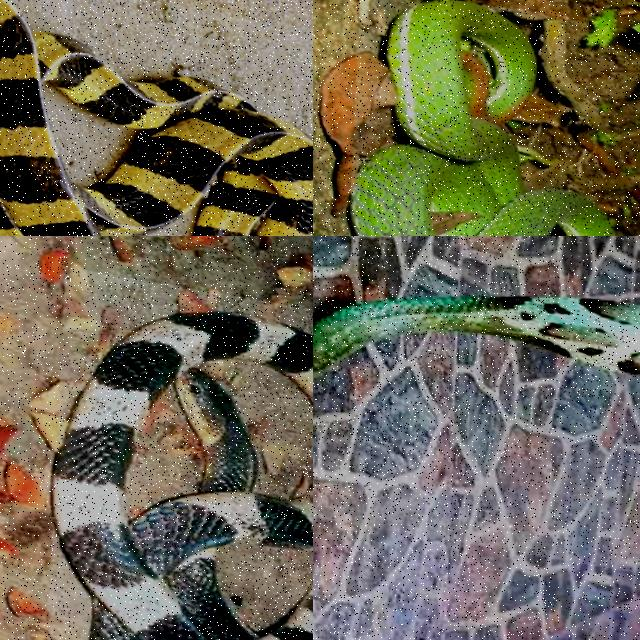Bungarus candidus: (53, 311, 312, 639)
Bungarus fasciatus: (0, 0, 312, 235)
Naja kaouthia: (313, 297, 639, 379)
Trimeresurus: (350, 1, 614, 235)
